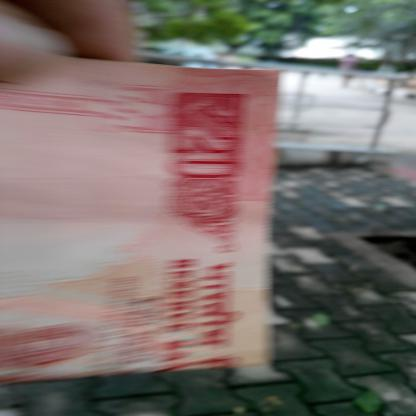Old20Front: (0, 56, 283, 383)
